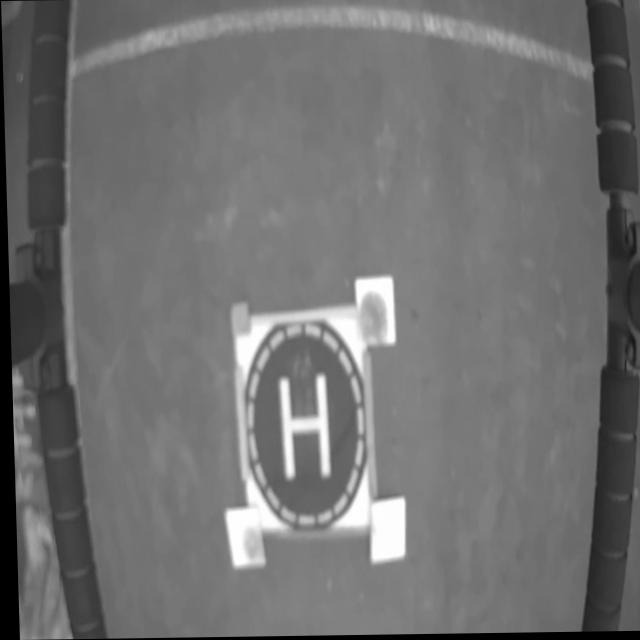Helipad: (275, 371, 327, 480)
